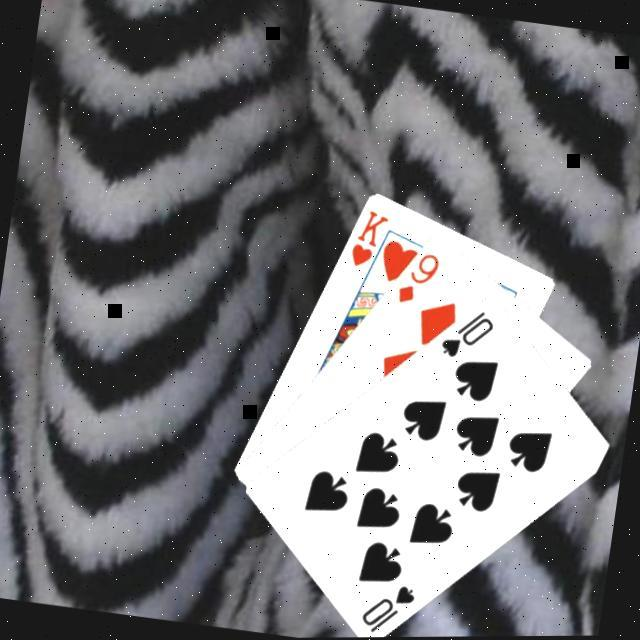10S: (354, 574, 420, 638), (435, 302, 498, 365)
9D: (392, 245, 444, 310)
KH: (344, 204, 392, 272)
